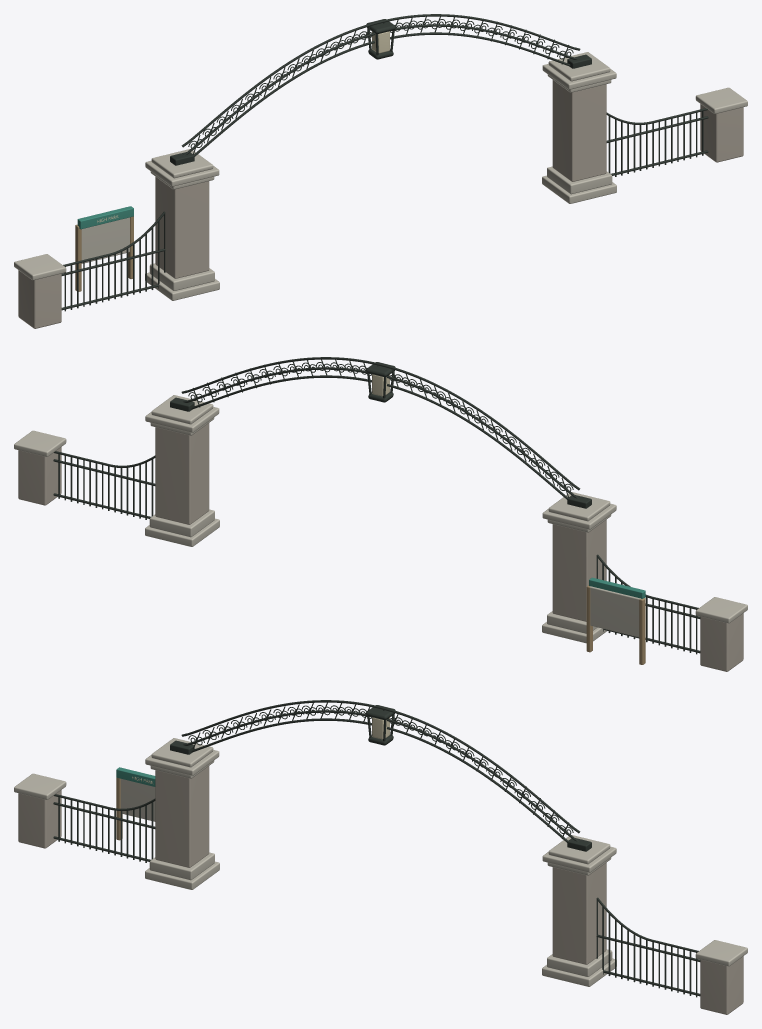
The model's file is north-gate.glb.
3 views of the same model, one above another, from view 1: azimuth 30°, elevation 25°; view 2: azimuth 150°, elevation 25°; view 3: azimuth 330°, elevation 25° (orthographic).
Parts seen in each view (by area): view 1: Pillar band 2, Fence picket, Pillar band 0, Information header, Information stand; view 2: Pillar band 2, Fence picket, Pillar band 0, Information stand, Information header; view 3: Pillar band 2, Fence picket, Pillar band 0.
Part boxes in pixels (<box>): Pillar band 2: <box>18,80,743,328</box>; Fence picket: <box>61,14,708,311</box>; Pillar band 0: <box>14,52,747,300</box>; Information header: <box>77,206,133,229</box>; Information stand: <box>75,216,133,291</box>; Pillar band 2: <box>18,423,743,671</box>; Fence picket: <box>53,357,700,654</box>; Pillar band 0: <box>14,395,747,643</box>; Information stand: <box>586,585,645,664</box>; Information header: <box>589,577,645,598</box>; Pillar band 2: <box>18,766,743,1014</box>; Fence picket: <box>53,700,700,997</box>; Pillar band 0: <box>14,738,747,986</box>.
Size of the model in its own units: 21.27 by 6.14 by 1.86.
